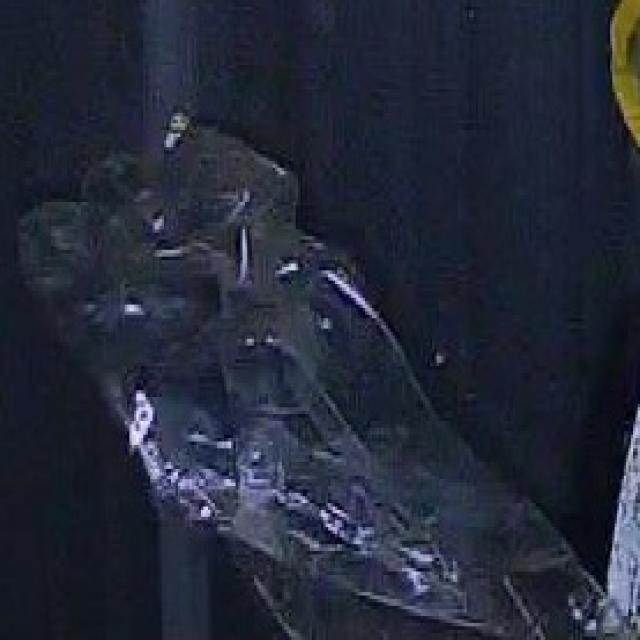plasticbottle: (21, 116, 640, 640)
